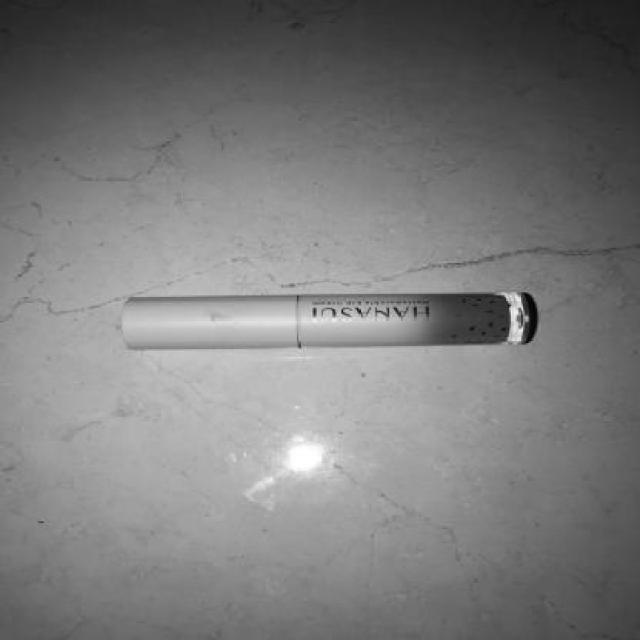lipstick: (48, 243, 584, 380)
